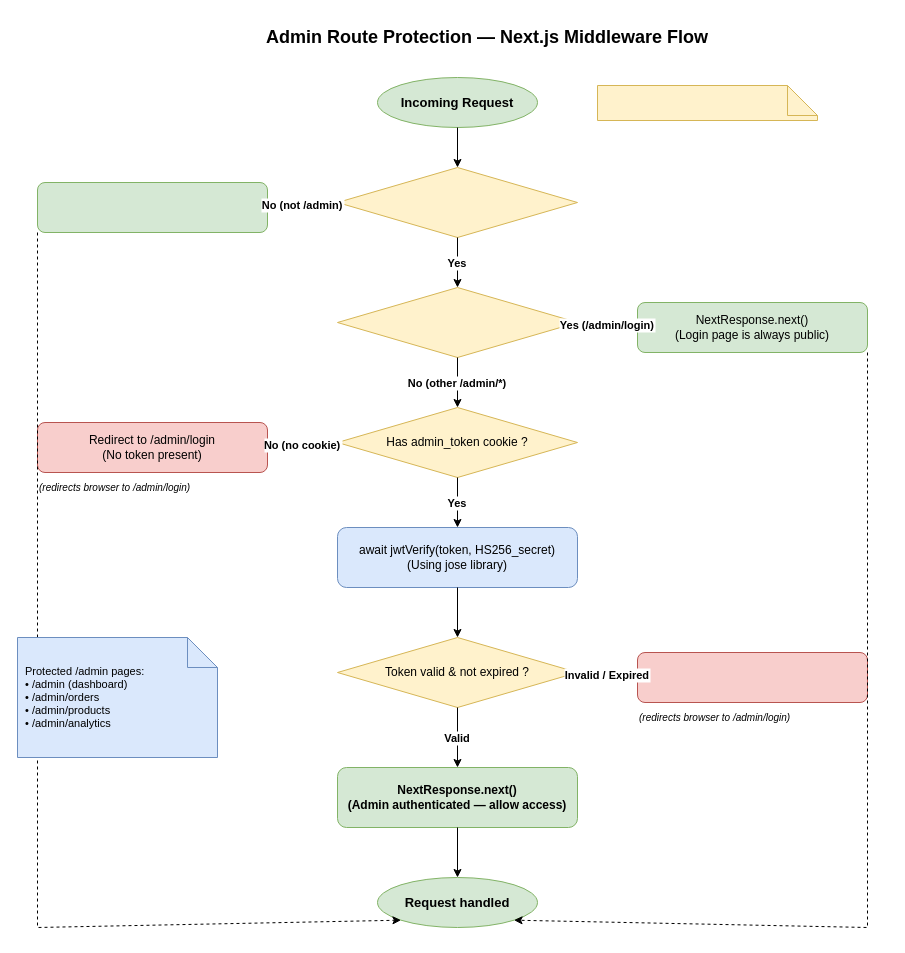
This 905x953 diagram has some shape labels left out. The box of each missing label's shape, as (x1, y1, x2, y2) in pixels:
Delete admin_token cookie Redirect to /admin/login: (636, 652, 868, 702)
Middleware matcher: /admin/:path*: (596, 84, 818, 120)
NextResponse.next() (Non-admin route, no auth needed): (36, 182, 268, 232)
pathname.startsWith('/admin') ?: (336, 166, 578, 238)
pathname.startsWith('/admin/login') ?: (336, 286, 578, 358)
